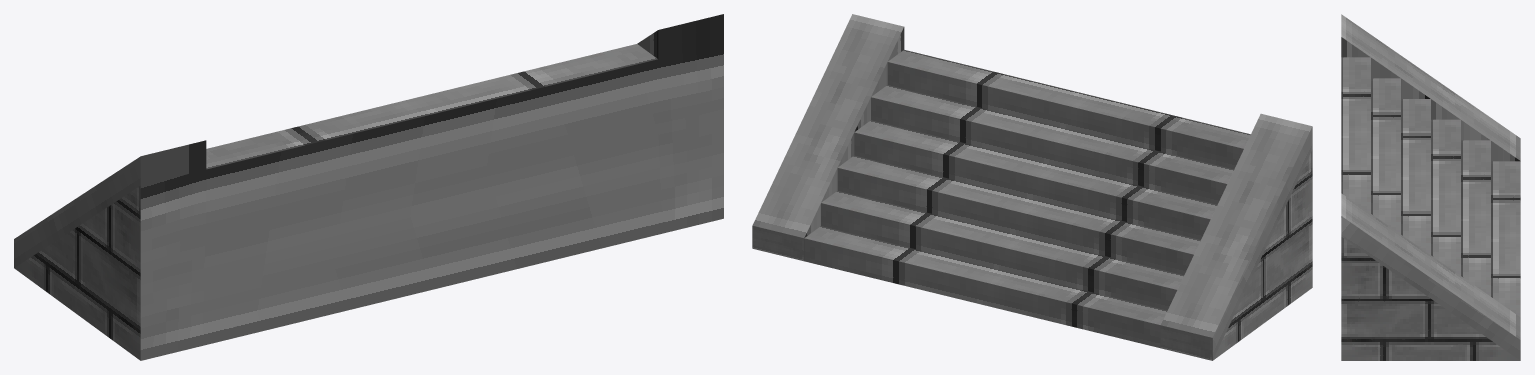
Rendered from Stair01.fbx.
The picture shows the model from 3 angles, left to right: view 1: azimuth 30°, elevation 25°; view 2: azimuth 150°, elevation 25°; view 3: azimuth 270°, elevation 25°; orthographic projection. The views are drawn at different scales.
Parts seen in each view (by area): view 1: pCube76; view 2: pCube76; view 3: pCube76.
Boxes of the visible parts, <box> form: pCube76: <box>14,14,723,360</box>; pCube76: <box>752,14,1312,360</box>; pCube76: <box>1341,14,1520,360</box>.
Size of the model in its own units: 144 by 48.31 by 54.18.
1 material, 1 textured.
